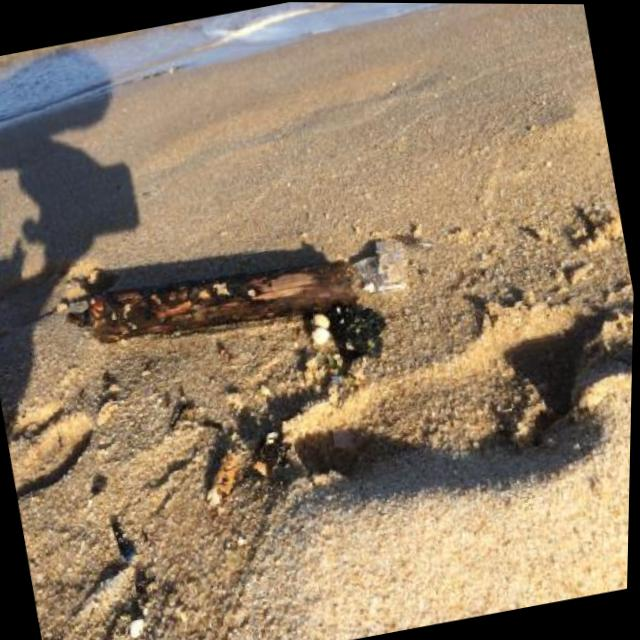plastic: (346, 237, 410, 301)
